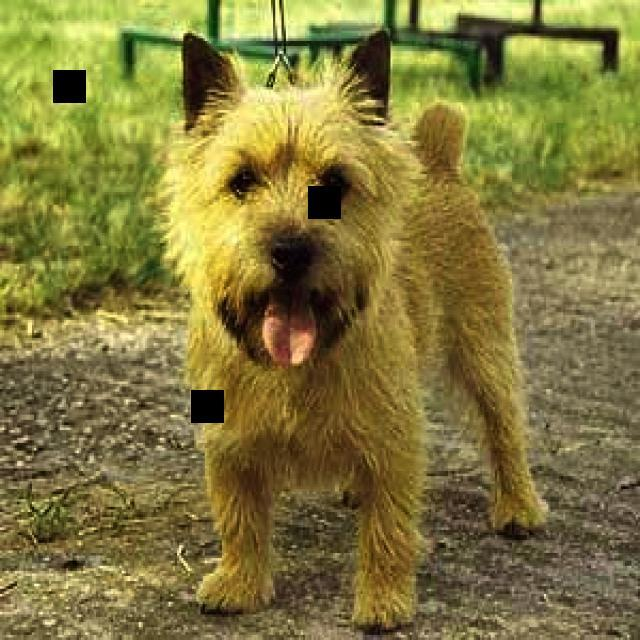adult_dog: (163, 25, 553, 629)
